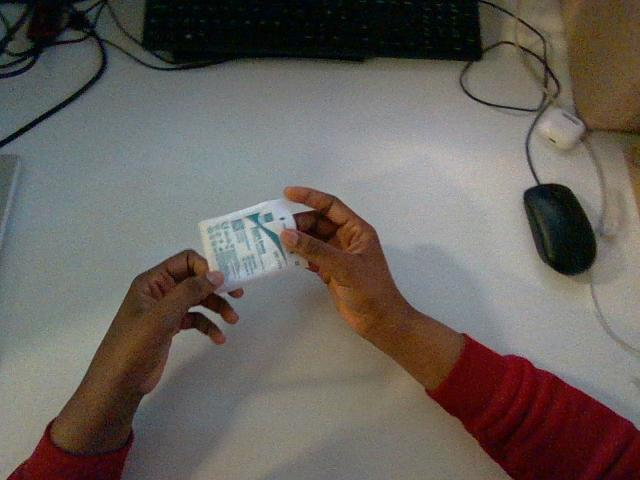gauze: (199, 199, 307, 291)
